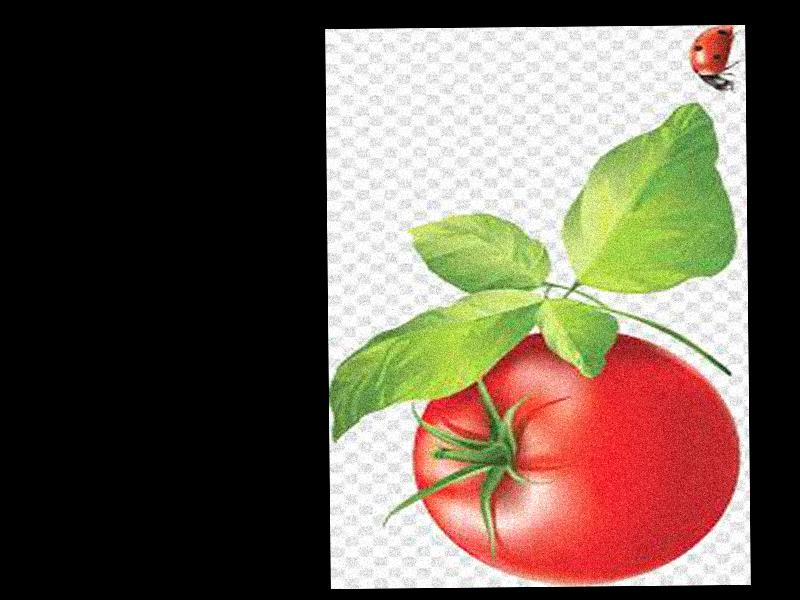Tomato: (411, 331, 741, 586)
